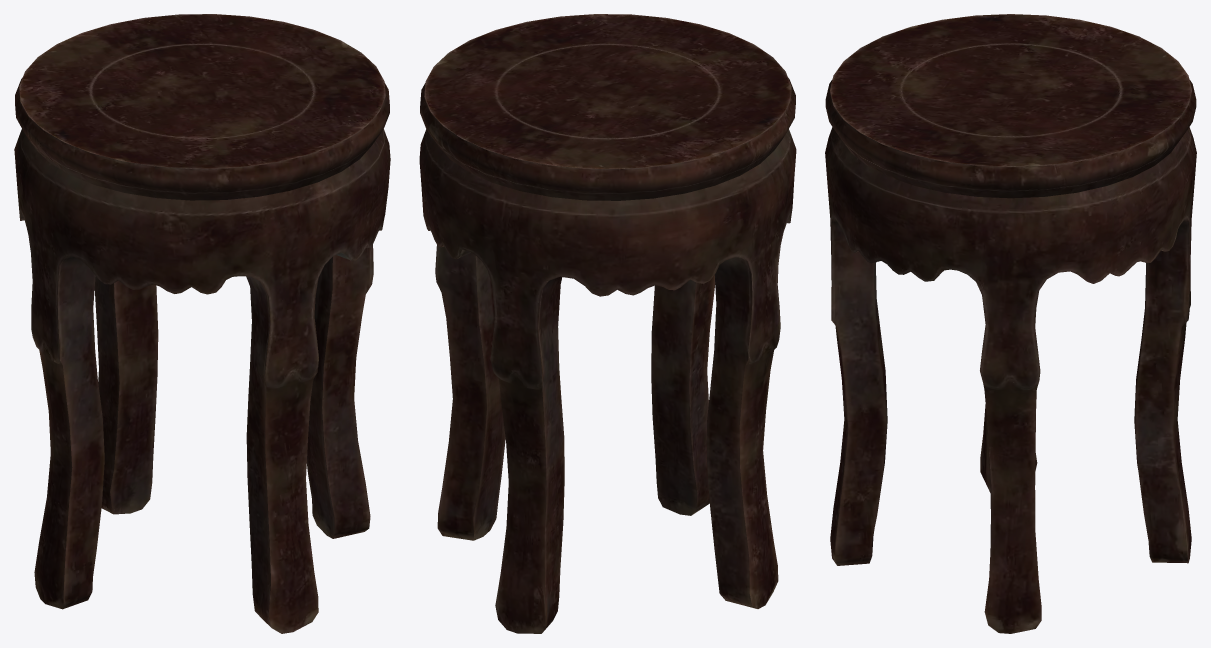
Rendered from Wooden Table1.gltf.
The picture shows the model from 3 angles, left to right: view 1: azimuth 30°, elevation 25°; view 2: azimuth 150°, elevation 25°; view 3: azimuth 270°, elevation 25°; orthographic projection.
Visible parts, largest first — view 1: WoodenTable_02; view 2: WoodenTable_02; view 3: WoodenTable_02.
Boxes of the visible parts, x1,y1,x2,y2 form: WoodenTable_02: (14,14,390,633); WoodenTable_02: (419,14,796,633); WoodenTable_02: (825,14,1196,633).
Bounding box in the file's own units: 0.3007 × 0.4177 × 0.3007.
Materials: 1 (1 with a texture image).
